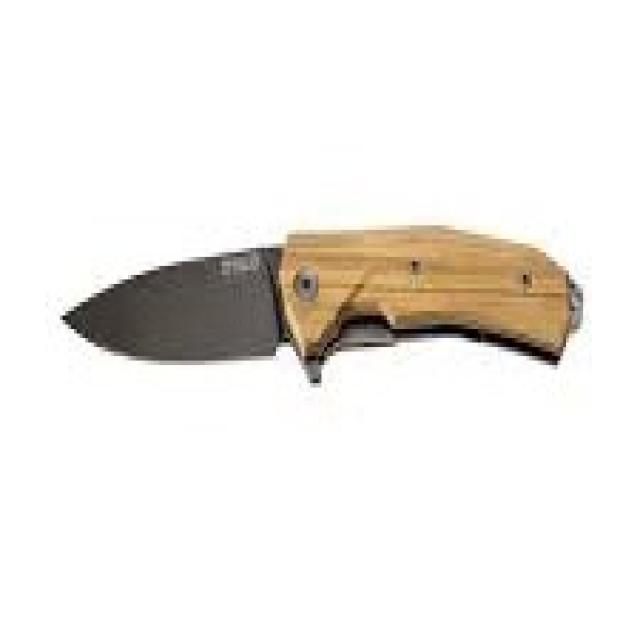knife: (58, 221, 583, 407)
